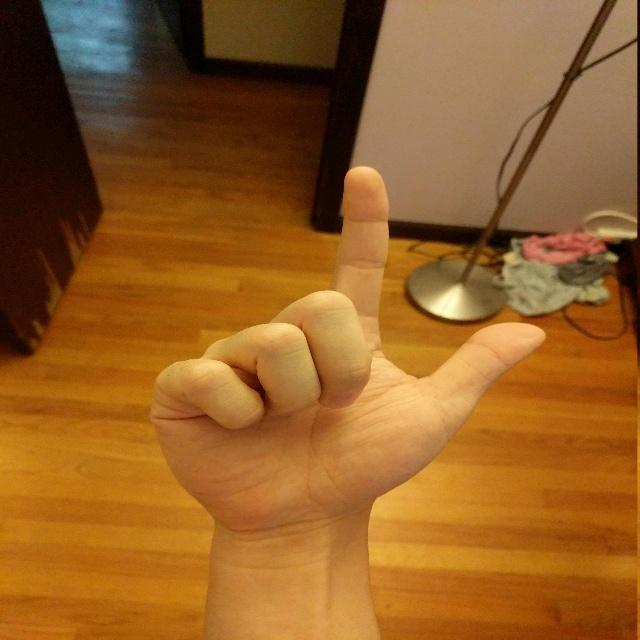L: (142, 160, 554, 534)
